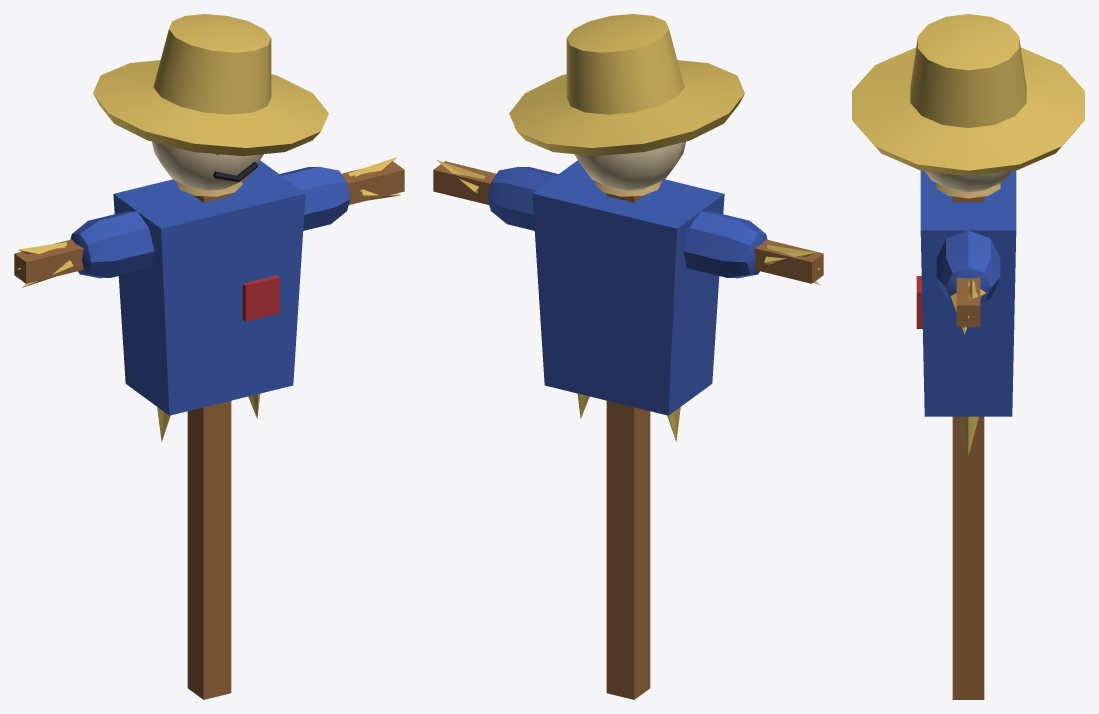
File: scarecrow-source.glb
3 renders of one model, left to right at view 1: azimuth 30°, elevation 25°; view 2: azimuth 150°, elevation 25°; view 3: azimuth 270°, elevation 25°, orthographic.
Parts seen in each view (by area): view 1: Scarecrow shirt, Scarecrow hat, Scarecrow post, Scarecrow head, Scarecrow patch, Scarecrow straw; view 2: Scarecrow shirt, Scarecrow hat, Scarecrow post, Scarecrow head, Scarecrow straw; view 3: Scarecrow hat, Scarecrow shirt, Scarecrow post, Scarecrow head, Scarecrow straw, Scarecrow neck tie.
Boxes of the visible parts, x1,y1,x2,y2 form: Scarecrow shirt: (70,160,350,415); Scarecrow hat: (93,14,328,156); Scarecrow post: (14,161,404,699); Scarecrow head: (152,141,263,190); Scarecrow patch: (242,275,279,321); Scarecrow straw: (17,157,400,441); Scarecrow shirt: (487,160,767,415); Scarecrow hat: (509,14,744,156); Scarecrow post: (433,161,823,699); Scarecrow head: (574,141,685,190); Scarecrow straw: (437,160,820,441); Scarecrow hat: (852,14,1084,176); Scarecrow shirt: (920,170,1016,416); Scarecrow post: (952,196,984,699); Scarecrow head: (924,171,1012,192); Scarecrow straw: (950,279,985,455); Scarecrow neck tie: (936,183,1000,198).
Size of the model in its own units: 1.12 by 1.84 by 0.585.
